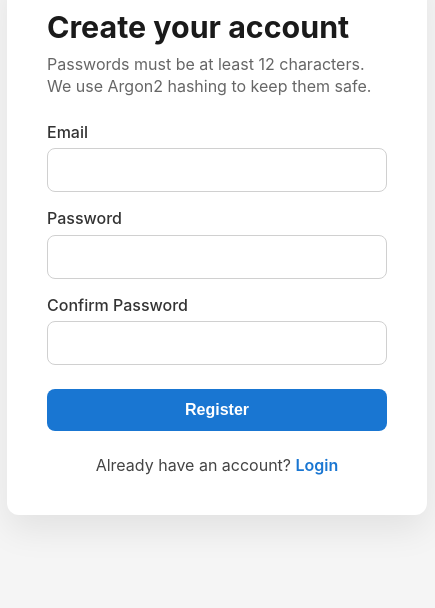
Scenario: RegisterPage › blocks submission when passwords do not match
Type "user@example.com" into the field labelled "Email" at (217, 170), box [47,148,387,192]
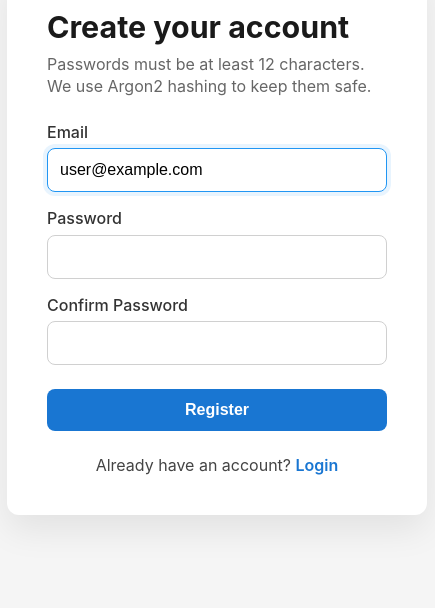
Type "Password123!" into the password field labelled "Password" at (217, 257), box [47,235,387,279]
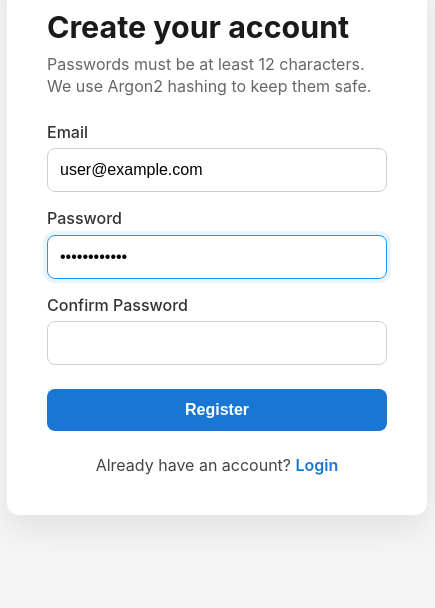
Type "Mismatch123!" into the password field labelled "Confirm Password" at (217, 343), box [47,321,387,365]
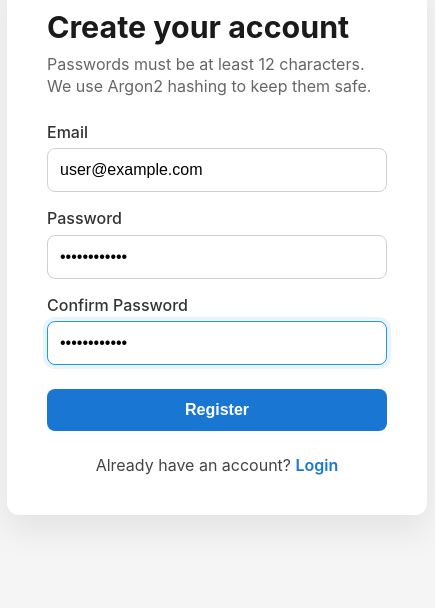
Click the button "Register" at (217, 410), box [47,389,387,431]
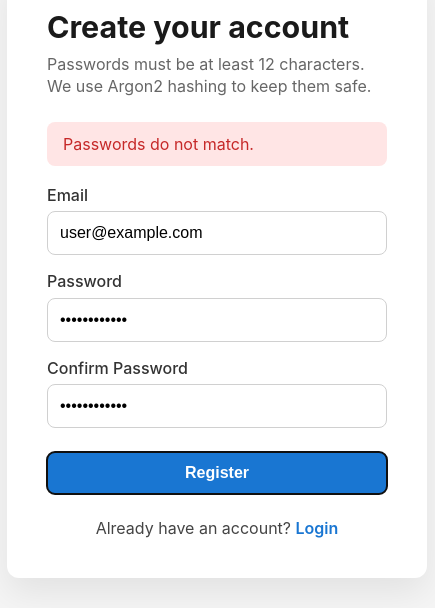
Expected: the text "Passwords do not match." is shown, [47,122,387,166]
